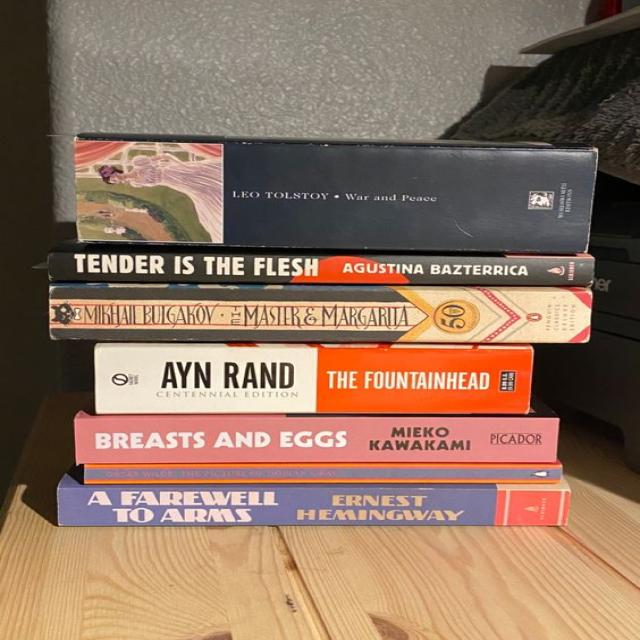book: (74, 134, 597, 254), (49, 284, 591, 343), (95, 345, 532, 414), (57, 474, 569, 526), (74, 411, 558, 464), (50, 243, 593, 286), (68, 464, 562, 484)
